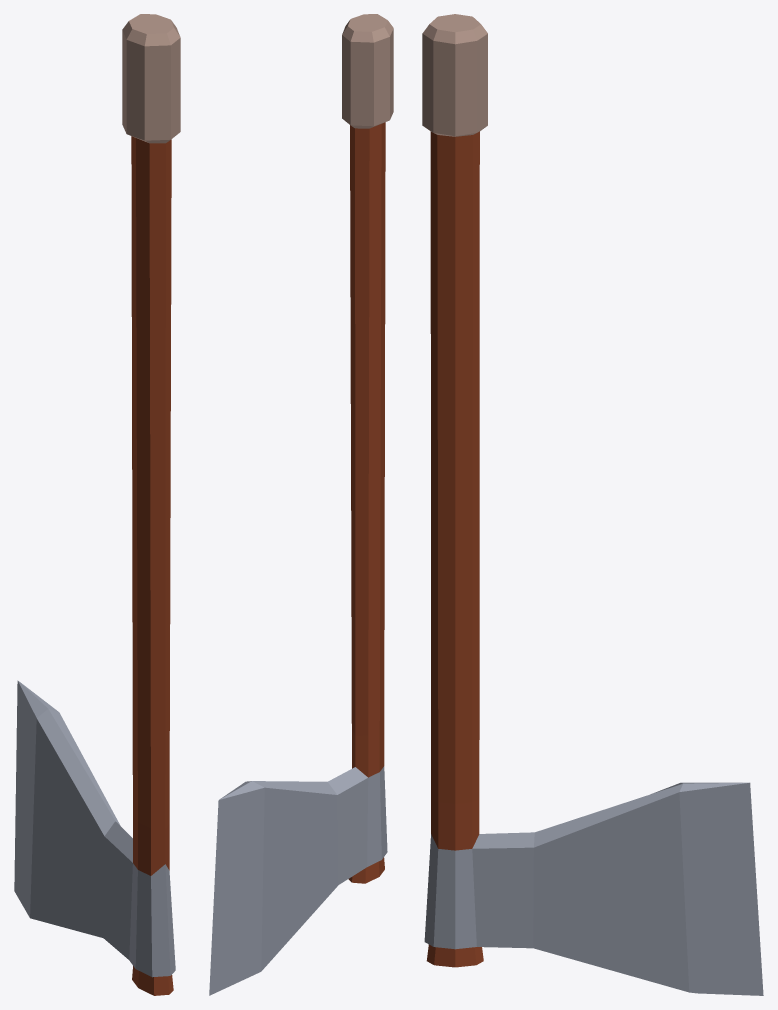
File: axe.fbx
The picture shows the model from 3 angles, left to right: view 1: azimuth 30°, elevation 25°; view 2: azimuth 150°, elevation 25°; view 3: azimuth 270°, elevation 25°; orthographic projection. The views are drawn at different scales.
Parts seen in each view (by area): view 1: axe; view 2: axe; view 3: axe.
Part boxes in pixels (x1,y1,x2,y2): axe: (14,14,180,995); axe: (209,14,393,995); axe: (422,14,763,995).
Bounding box in the file's own units: 28.75 × 519 × 167.
